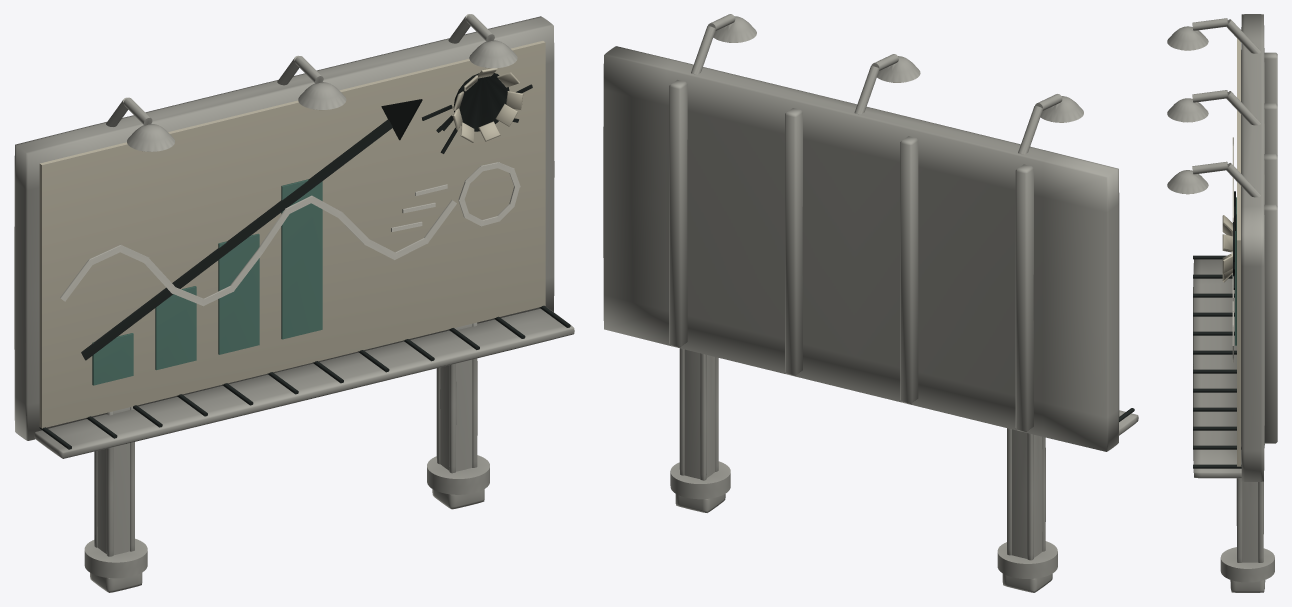
The model's file is foreman_billboard_b.glb.
3 renders of one model, left to right at view 1: azimuth 30°, elevation 25°; view 2: azimuth 150°, elevation 25°; view 3: azimuth 270°, elevation 25°, orthographic. The views are drawn at different scales.
Parts seen in each view (by area): view 1: Surface; view 2: Surface; view 3: Surface.
Part boxes in pixels (bbox=[...]): Surface: bbox=[14, 14, 574, 592]; Surface: bbox=[603, 14, 1138, 592]; Surface: bbox=[1167, 14, 1277, 592].
Bounding box in the file's own units: 10.5 × 9.38 × 2.21.
